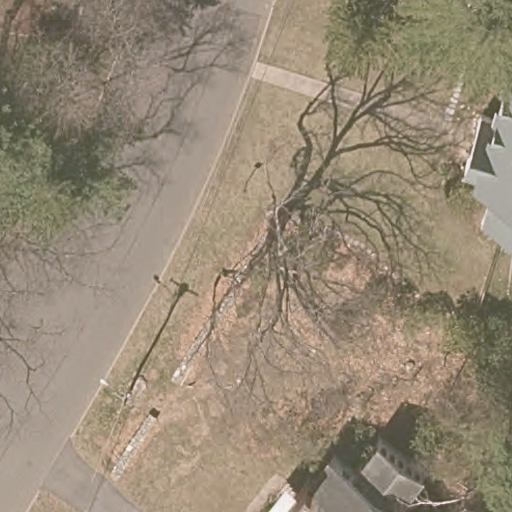DT: (100, 366, 146, 413)
